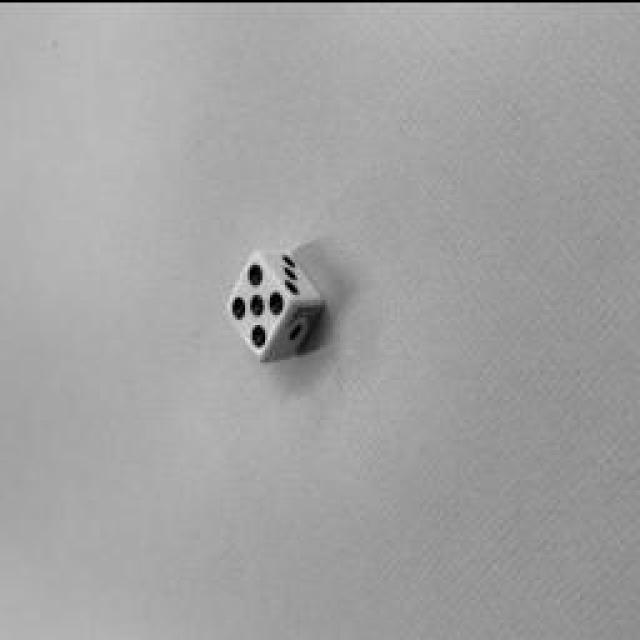dice_5: (228, 252, 290, 356)
